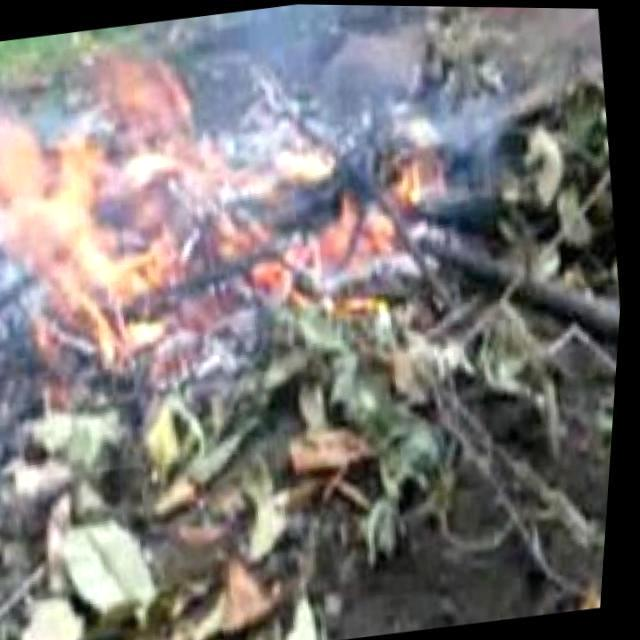fire: (1, 1, 472, 376)
